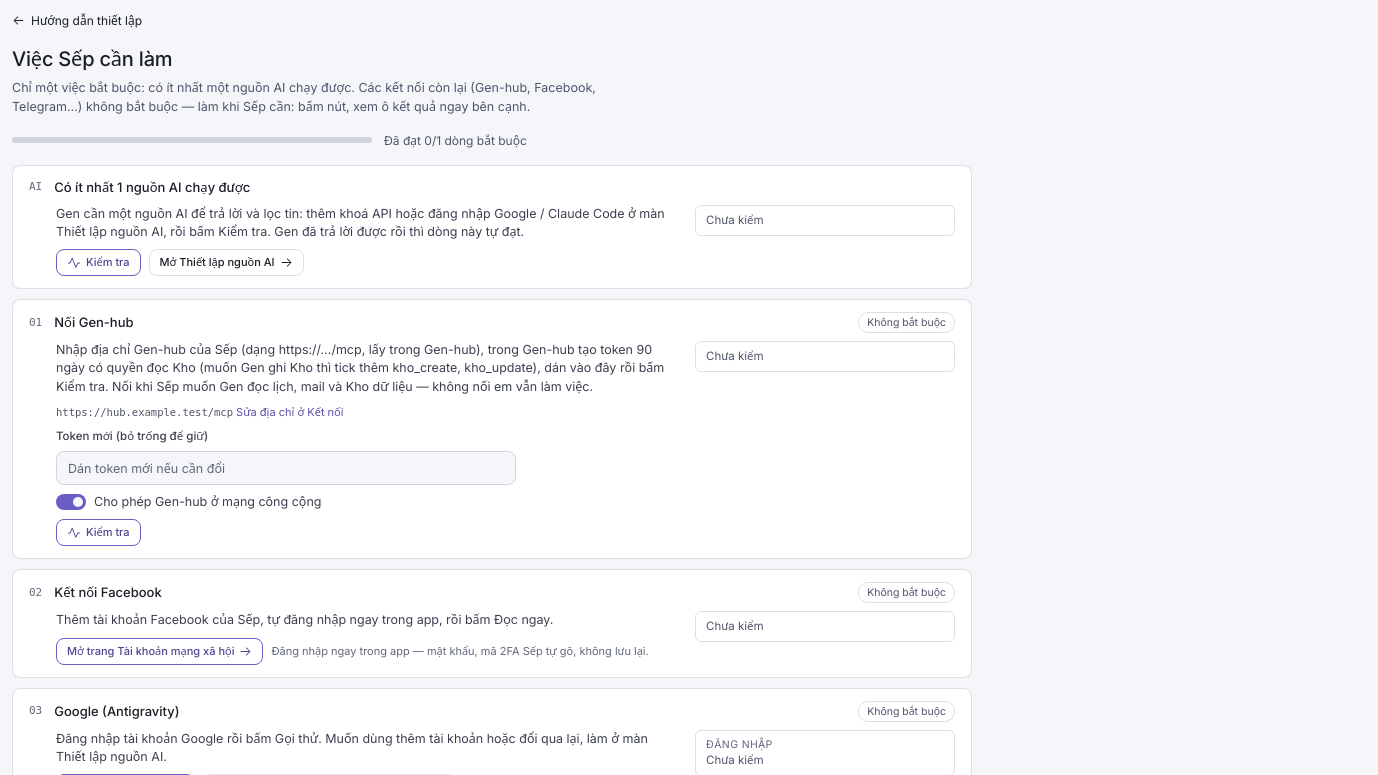
Test: Việc Sếp cần làm (/guide/viec-sep) › Gen-hub: nhập token → Kiểm tra = PATCH /hub/link rồi POST /boss-checks/hub/run; "Đạt" hiện ngay cạnh dòng
In the password field labelled "Token mới (bỏ trống để giữ)": (286, 468) [56,451,516,485], type "ghtok_Moi_123456789"
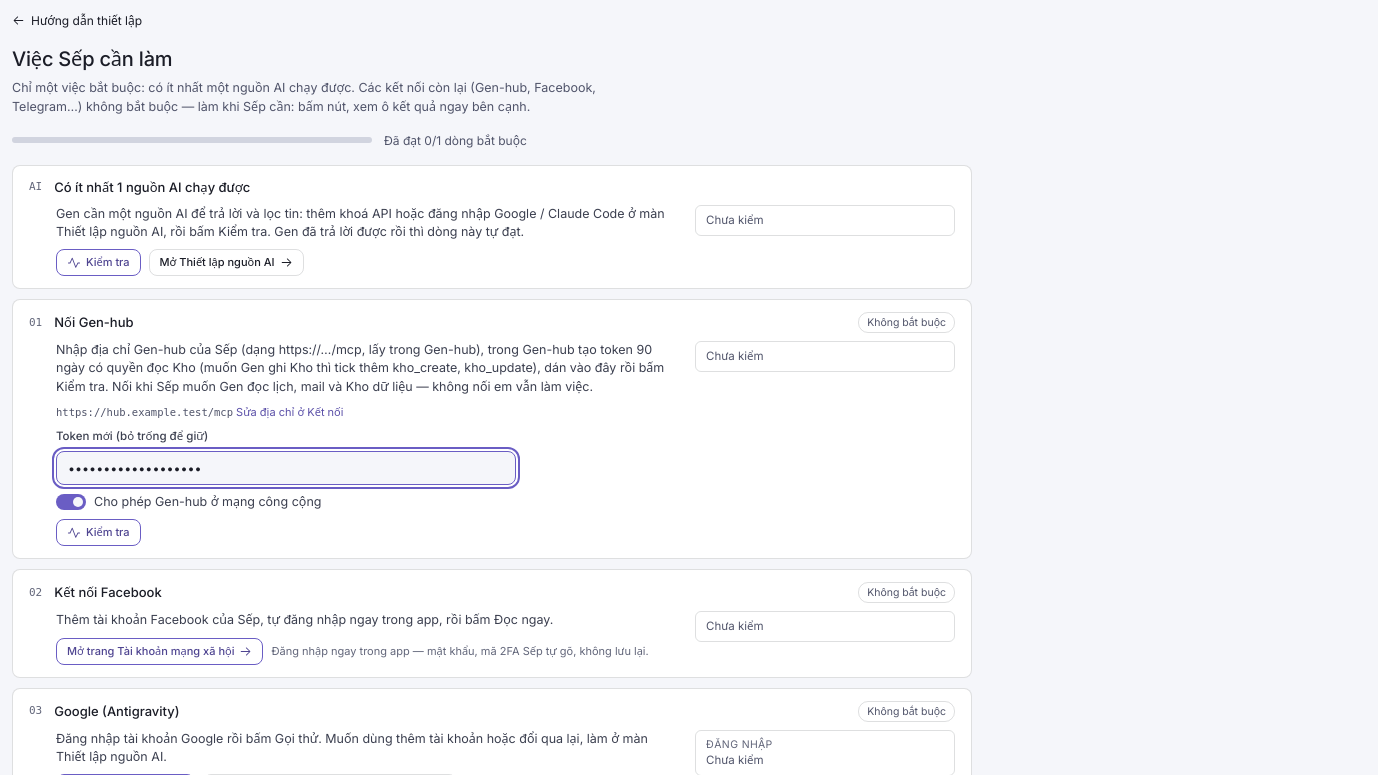
Click the button "Kiểm tra" below "Cho phép Gen-hub ở mạng công cộng": (98, 533) [56,519,141,546]
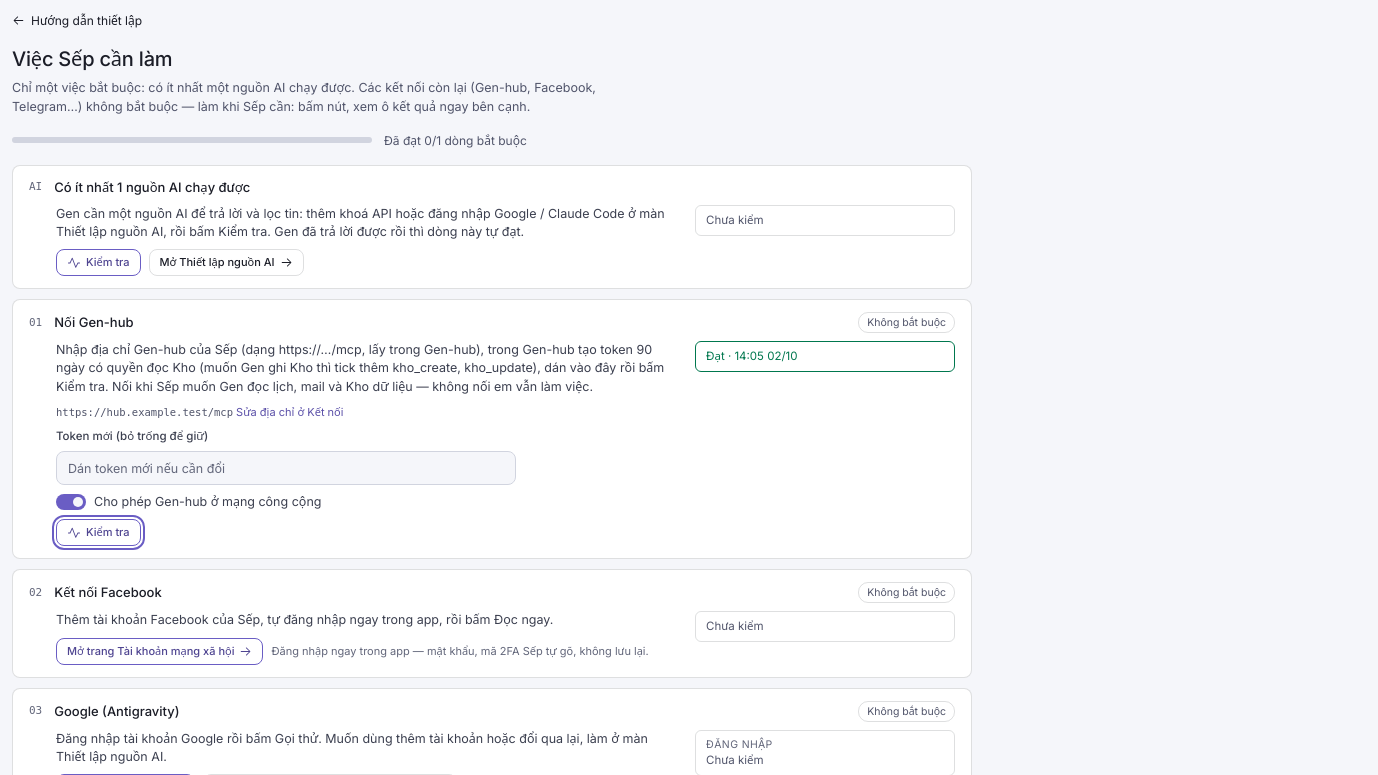
expect the text "Đạt · 14:05 02/10" is shown: met, box [706,349,798,363]
expect the password field labelled "Token mới (bỏ trống để giữ)" is empty: met, box [56,451,516,485]
